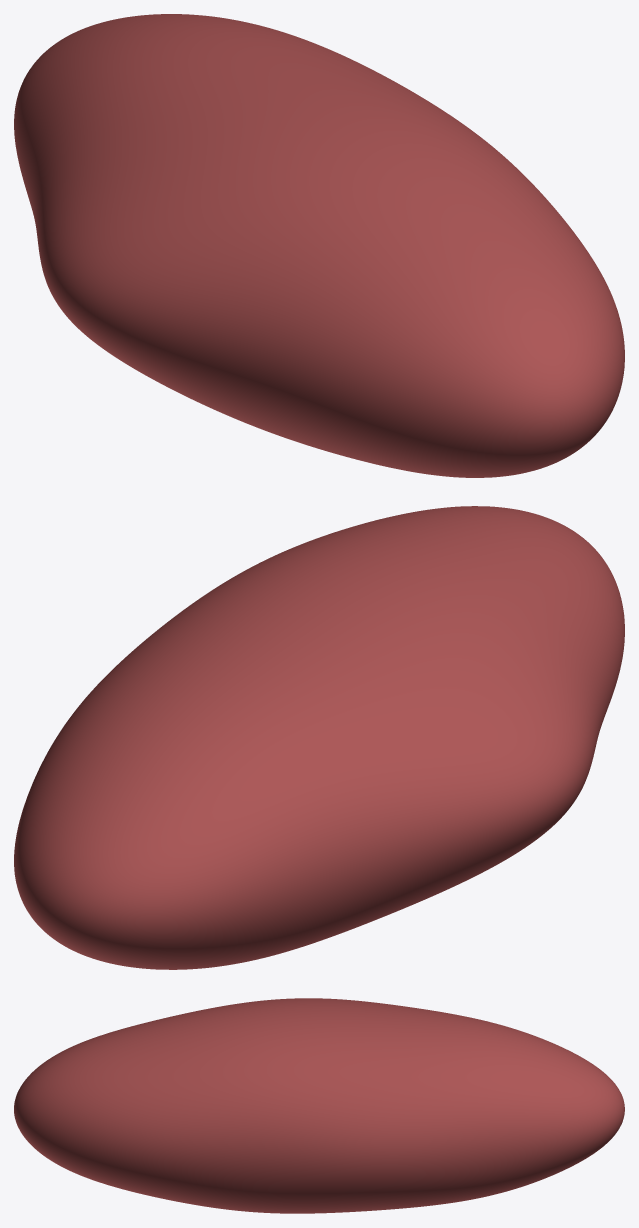
File: kidney.glb
3 renders of one model, top to bottom at view 1: azimuth 30°, elevation 25°; view 2: azimuth 150°, elevation 25°; view 3: azimuth 270°, elevation 25°, orthographic. The views are drawn at different scales.
Visible parts, largest first — view 1: geometry_0; view 2: geometry_0; view 3: geometry_0.
Boxes of the visible parts, <box> form: geometry_0: <box>14,14,624,477</box>; geometry_0: <box>14,506,624,969</box>; geometry_0: <box>14,998,624,1213</box>.
Size of the model in its own units: 44.82 by 28.08 by 87.99.
